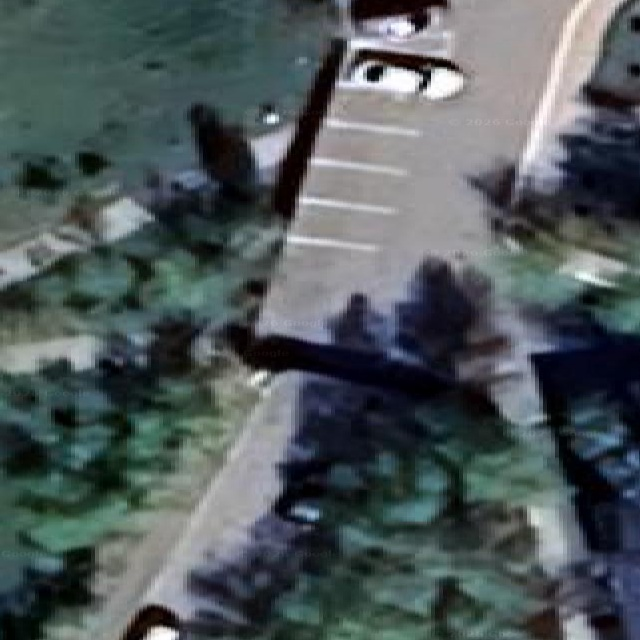car: (347, 59, 463, 99)
